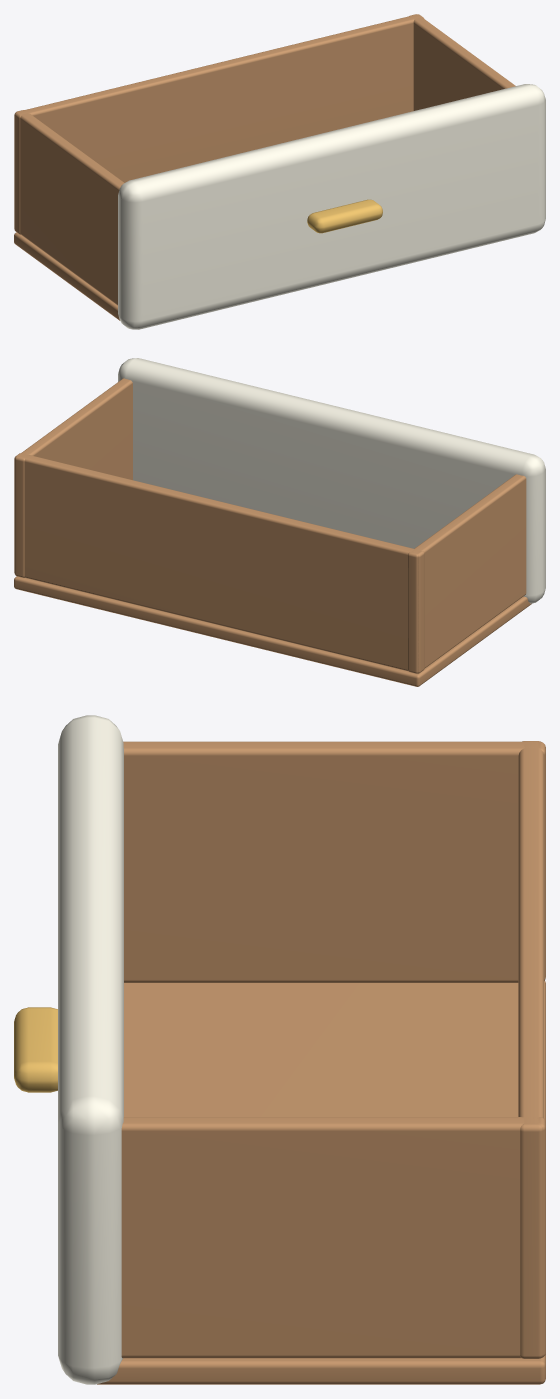
The model's file is japaneseClosetDrawerOpen.glb.
3 renders of one model, top to bottom at view 1: azimuth 30°, elevation 25°; view 2: azimuth 150°, elevation 25°; view 3: azimuth 270°, elevation 25°, orthographic. The views are drawn at different scales.
Visible parts, largest first — view 1: Drawer front, Drawer tray back, Drawer tray side, Drawer tray side.001, Pull, Drawer tray floor; view 2: Drawer tray back, Drawer front, Drawer tray side, Drawer tray side.001, Drawer tray floor; view 3: Drawer tray side.001, Drawer tray side, Drawer tray floor, Drawer front, Drawer tray back, Pull.
Boxes of the visible parts, x1,y1,x2,y2 form: Drawer front: (118, 84, 545, 329); Drawer tray back: (14, 14, 423, 234); Drawer tray side: (16, 110, 124, 305); Drawer tray side.001: (409, 14, 515, 110); Pull: (307, 199, 382, 233); Drawer tray floor: (14, 232, 119, 320); Drawer tray back: (14, 453, 424, 673); Drawer front: (118, 358, 545, 603); Drawer tray side: (408, 474, 526, 673); Drawer tray side.001: (15, 378, 132, 577); Drawer tray floor: (14, 576, 531, 686); Drawer tray side.001: (121, 1117, 545, 1358); Drawer tray side: (123, 741, 545, 982); Drawer tray floor: (97, 980, 545, 1384); Drawer front: (58, 715, 123, 1384); Drawer tray back: (518, 741, 543, 1358); Pull: (14, 1007, 57, 1092).
Size of the model in its own units: 1.3 by 0.43 by 0.725.
